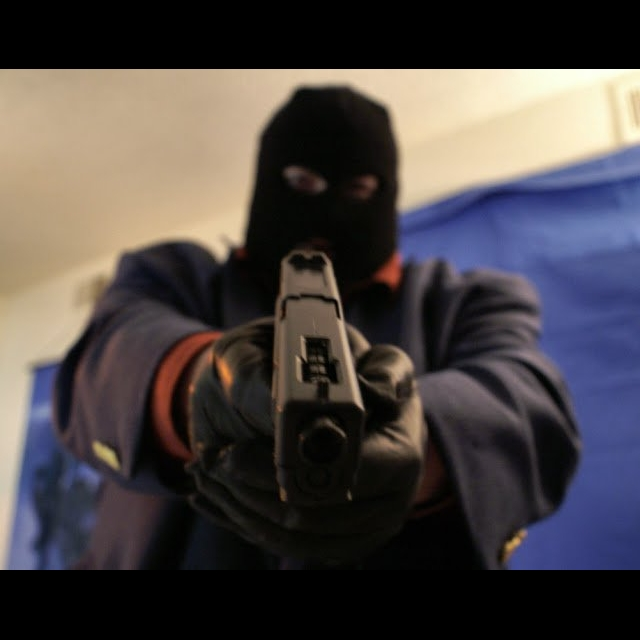SILAH: (230, 229, 409, 580)
